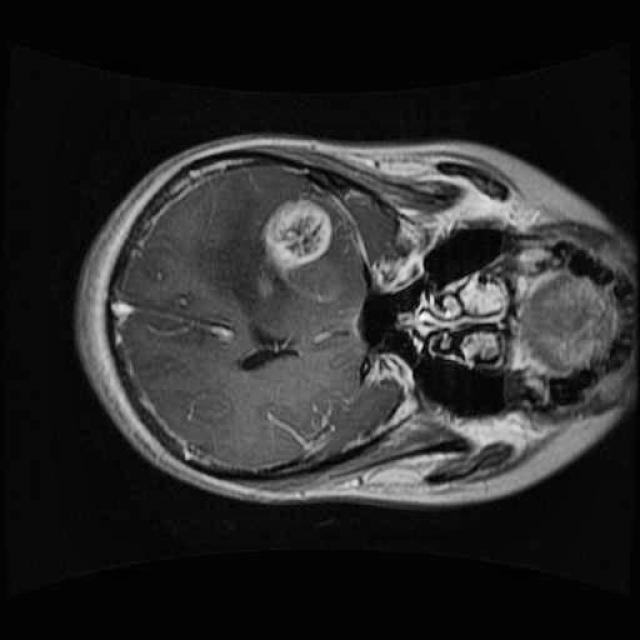Tumor: (238, 188, 346, 320)
